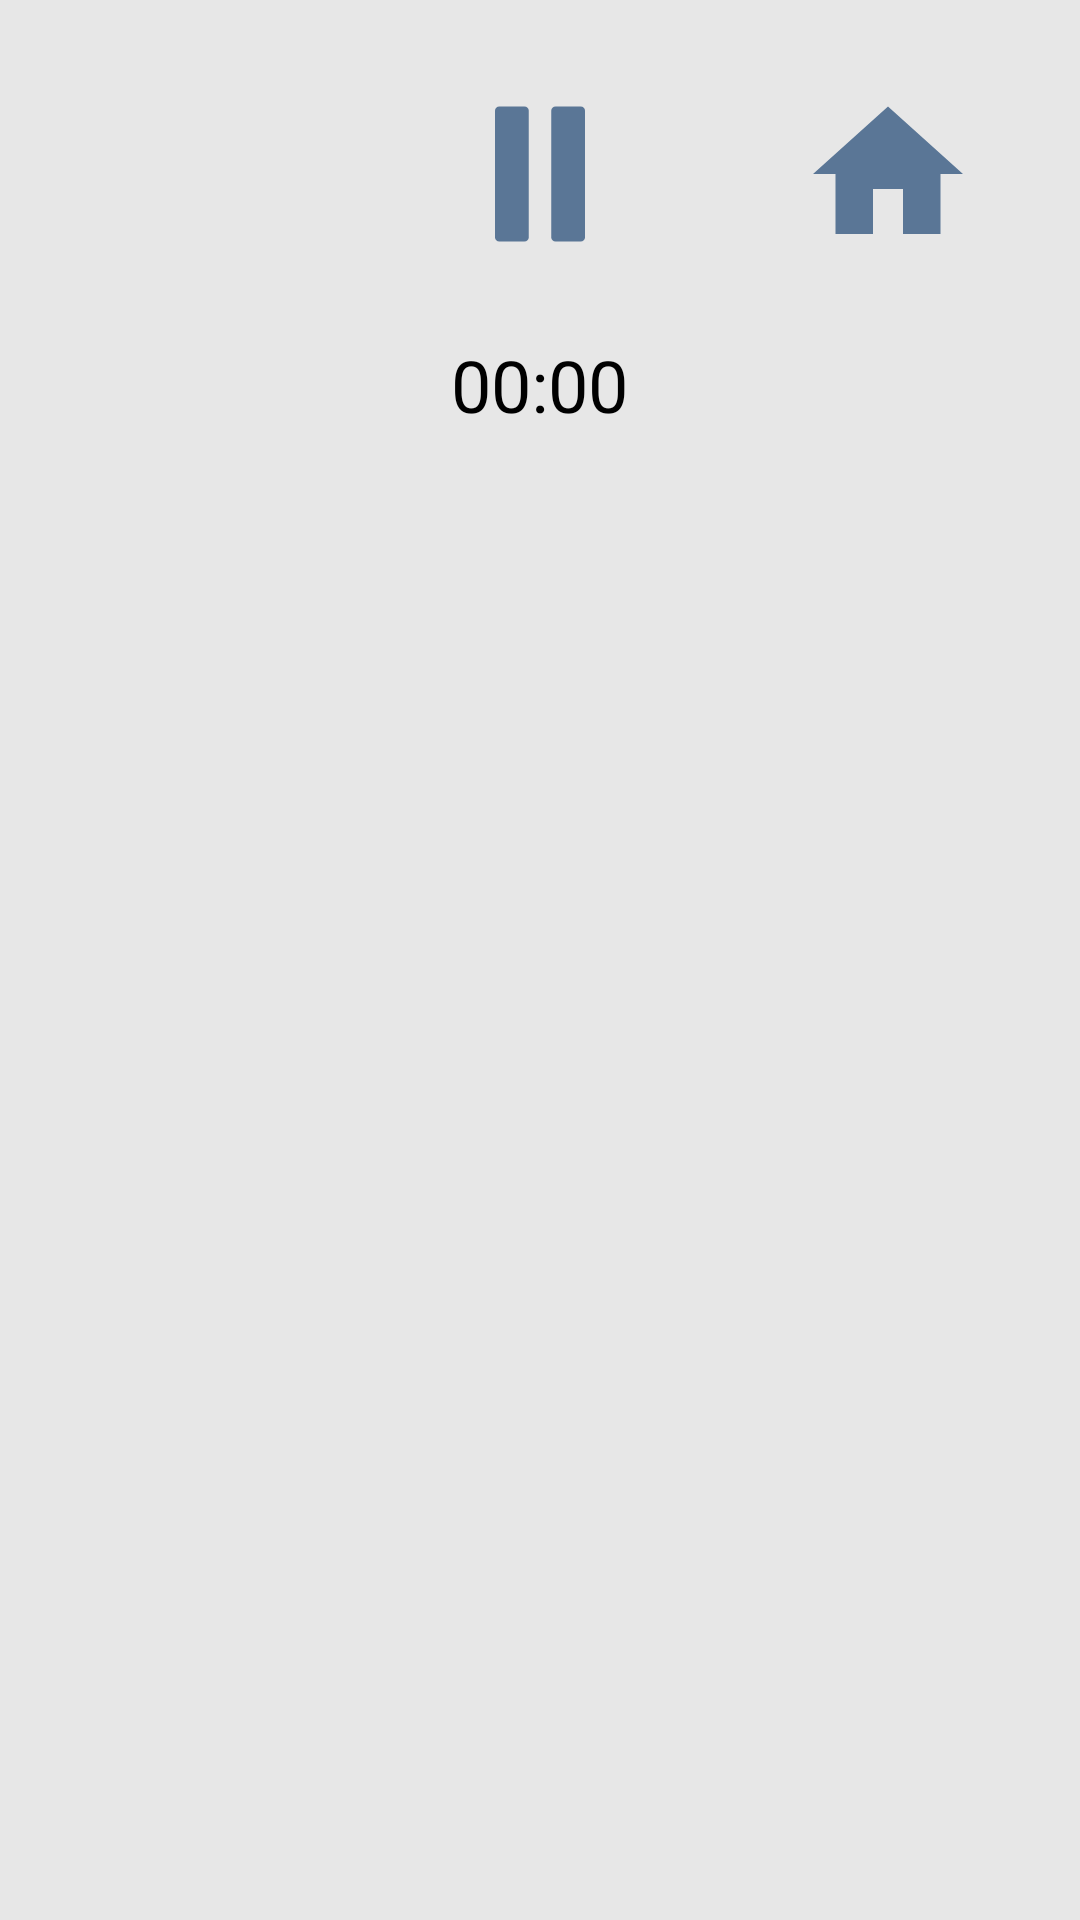

Screen size 1080 x 1920. Icon name, then its center in pixels as point (x, y):
game home: point (888, 170)
game pause: point (540, 174)
